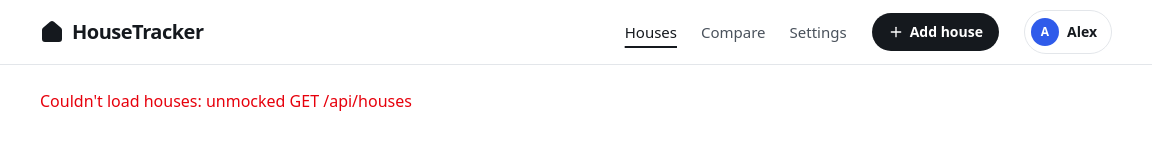
Test case: shows navigation and who is signed in; the chip signs out
Check: the link "Houses" is shown, box [625,21,677,43]
Check: the link "Settings" is shown, box [790,21,847,43]
Click the button "A Alex" at {"x": 1068, "y": 32}, box [1024,10,1112,54]
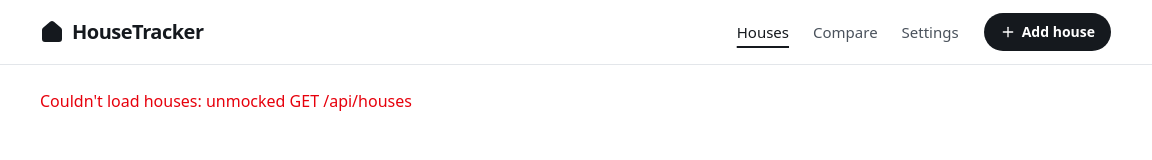
Check: the button "Alex" is gone
